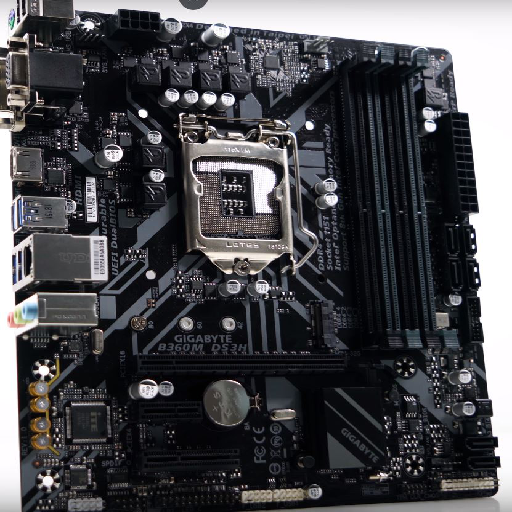CPU: (179, 133, 294, 278)
GPU: (124, 348, 377, 382)
MOTHERBOARD: (3, 5, 506, 506)
RAM: (335, 44, 459, 354)
SSD: (305, 295, 340, 351)
